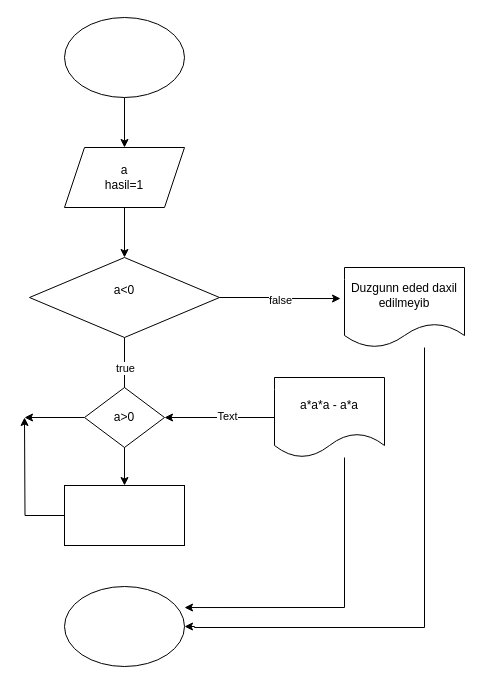
Some shapes in this 482 by 684 pixel diagram are drawn without their labels. Each missing label, with the box of its shape:
End: (64, 586, 184, 666)
hasil=hasil * a a--1: (64, 484, 184, 546)
Start: (64, 16, 184, 98)
